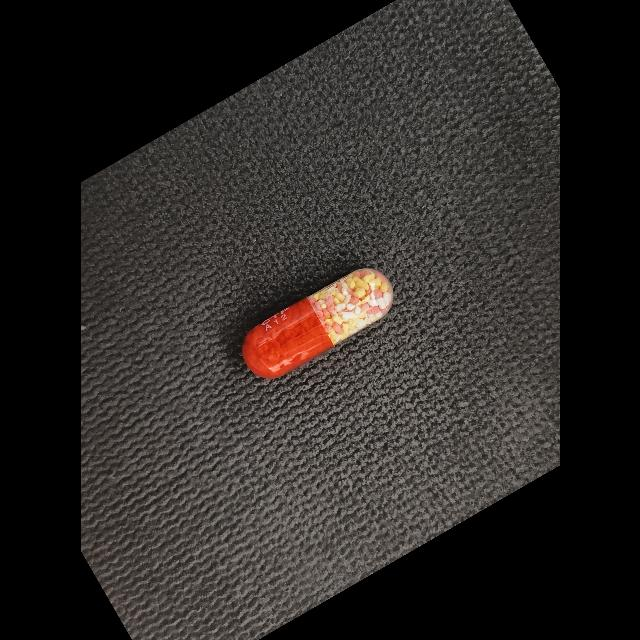Intact Capsule: (242, 269, 392, 378)
